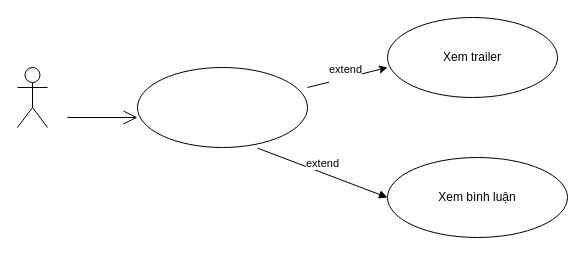
Some shapes in this 585 by 255 pixel diagram are drawn without their labels. The centre of each missing label's shape, as x and y in pixels:
"Actor" belongs at (32,97).
"xem chi tiết phim" belongs at (222,107).
